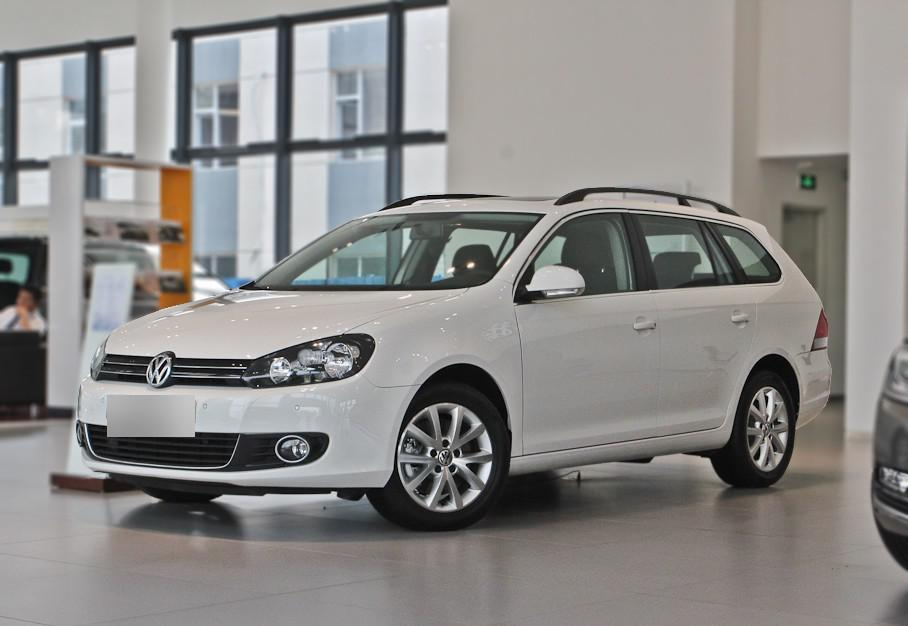Wagon: (73, 186, 834, 533)
